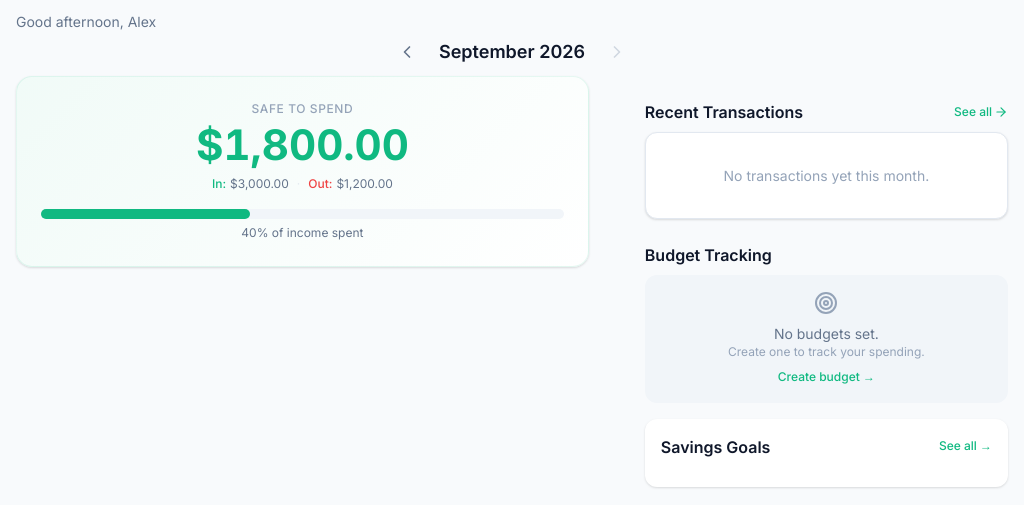
Test case: DashboardPage › clicking month label resets to current month
# Go back one month first
Click the button with test id "prev-month-btn". click: (407, 52)
box: [391,36,423,68]
Wait 400 ms
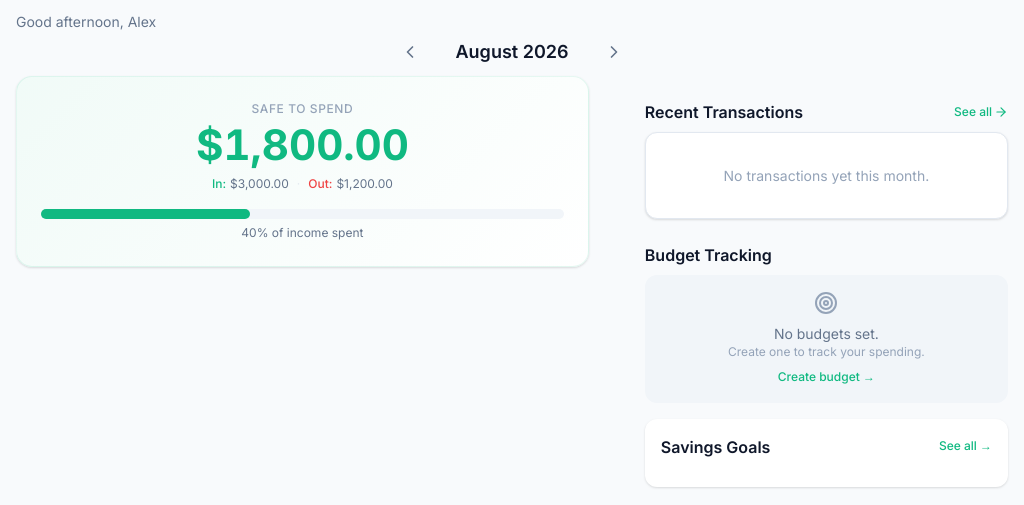
Expected: the button with test id "next-month-btn" is enabled, [598,36,630,68]
# Click the month label to reset
Click the button with test id "month-label". click: (512, 52)
box: [442,38,582,66]
Wait 400 ms
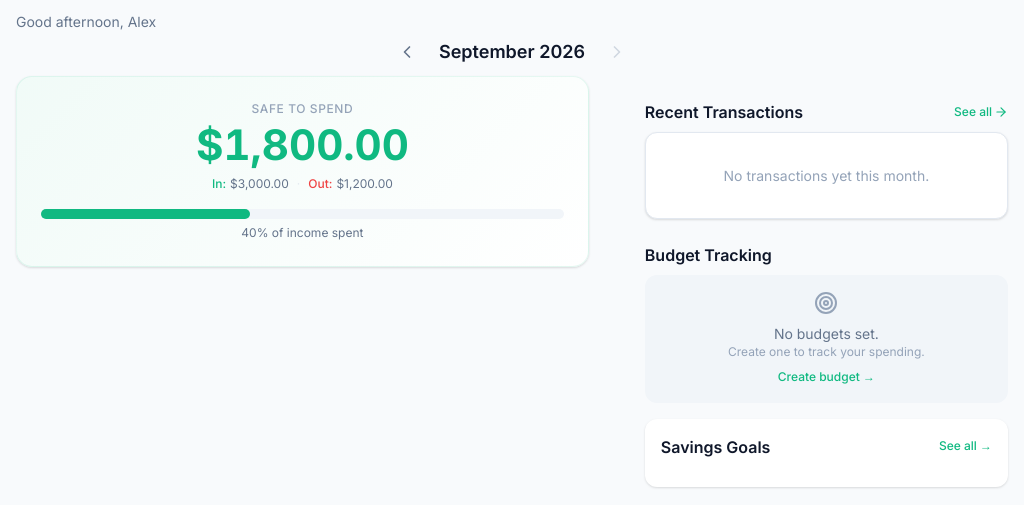
Expected: the button with test id "next-month-btn" is disabled, [601,36,633,68]
